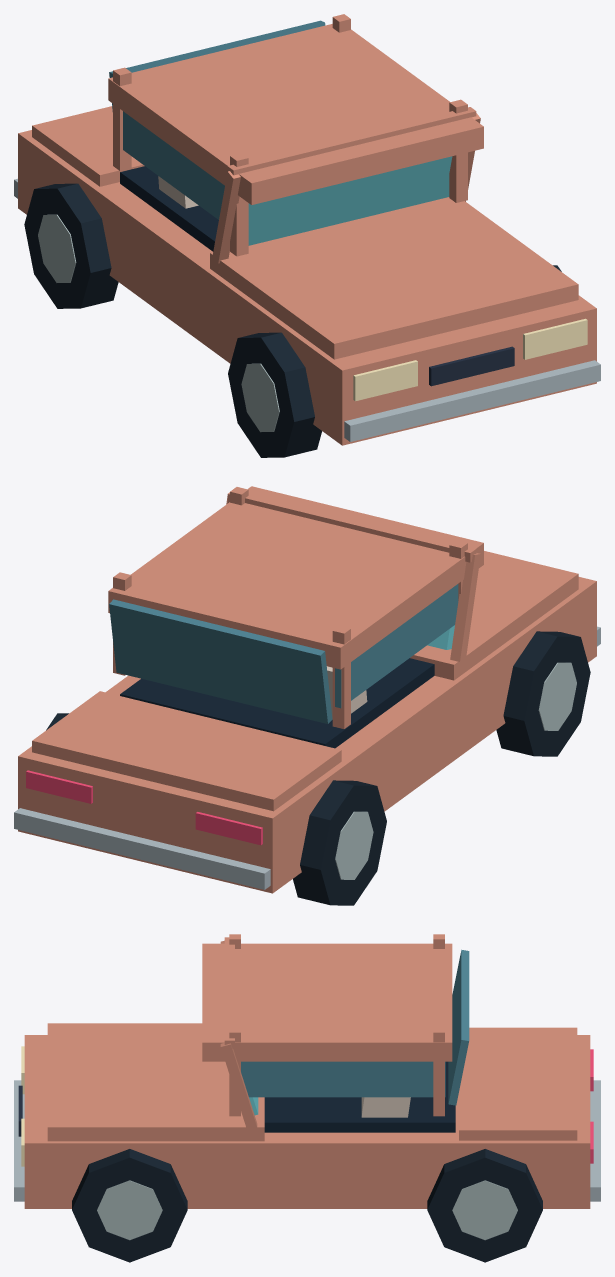
The model's file is vehicle-coupe.obj.
The picture shows the model from 3 angles, top to bottom: view 1: azimuth 30°, elevation 25°; view 2: azimuth 150°, elevation 25°; view 3: azimuth 270°, elevation 25°; orthographic projection. The views are drawn at different scales.
Parts seen in each view (by area): view 1: vehicle-coupe; view 2: vehicle-coupe; view 3: vehicle-coupe.
Boxes of the visible parts, left/top/right/bottom form: vehicle-coupe: left=14, top=14, right=600, bottom=457; vehicle-coupe: left=14, top=486, right=600, bottom=905; vehicle-coupe: left=14, top=934, right=600, bottom=1262.
Bounding box in the file's own units: 2.28 × 1.81 × 4.46.
